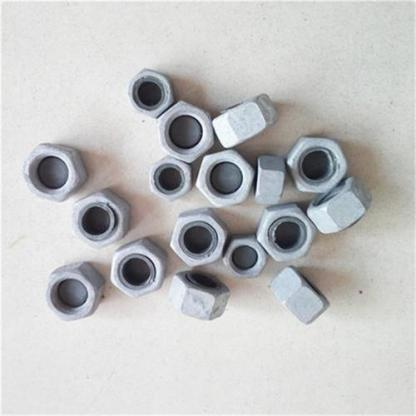FOD: (20, 142, 87, 206), (267, 266, 334, 330), (306, 174, 373, 237), (42, 260, 104, 326), (257, 201, 319, 266), (154, 100, 218, 162), (286, 132, 348, 196), (212, 90, 280, 148), (69, 188, 131, 250), (194, 148, 254, 211), (108, 236, 166, 298), (168, 271, 232, 322), (170, 212, 226, 270), (126, 67, 176, 119), (148, 154, 194, 204), (250, 152, 286, 207), (222, 236, 268, 279)
